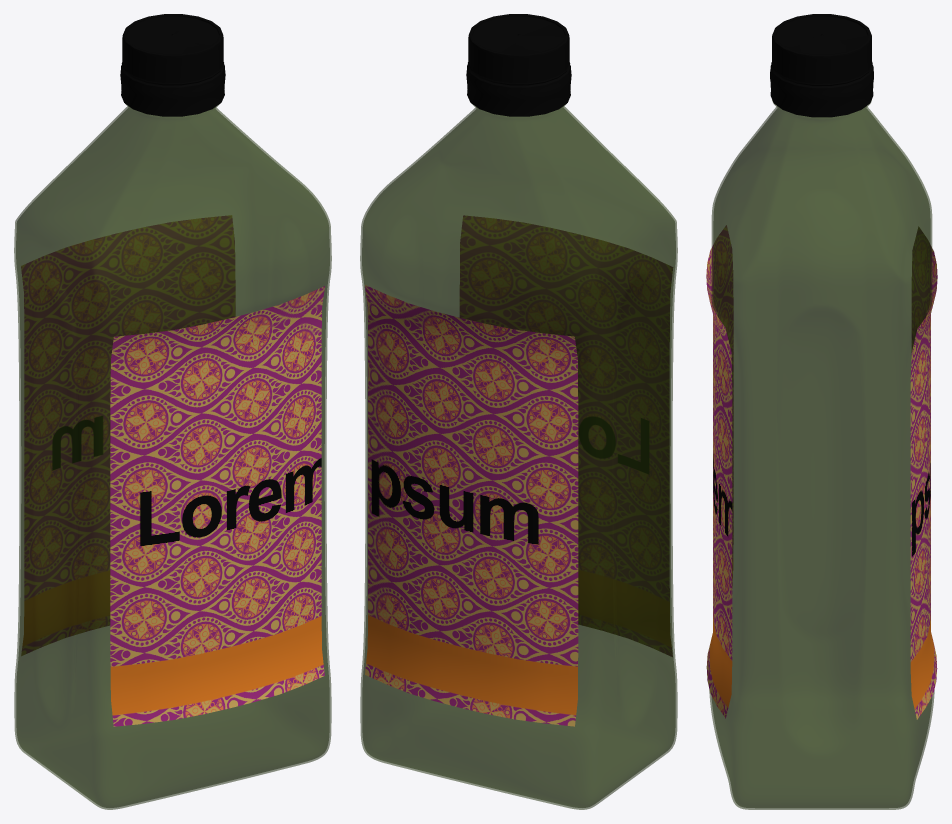
File: 01.Oil bottle.glb
3 views of the same model, side by side, from view 1: azimuth 30°, elevation 25°; view 2: azimuth 150°, elevation 25°; view 3: azimuth 270°, elevation 25° (orthographic).
Parts seen in each view (by area): view 1: Front Label, Bottle, Bottle Cap; view 2: Front Label, Bottle, Bottle Cap; view 3: Bottle, Front Label, Bottle Cap.
Part boxes in pixels (x1,y1,x2,y2): Front Label: [21, 215, 324, 726]; Bottle: [14, 104, 331, 809]; Bottle Cap: [120, 14, 225, 116]; Front Label: [365, 215, 672, 726]; Bottle: [360, 104, 677, 809]; Bottle Cap: [466, 14, 571, 116]; Bottle: [709, 100, 934, 809]; Front Label: [706, 225, 937, 719]; Bottle Cap: [770, 14, 873, 117].
Size of the model in its own units: 0.0762 by 0.2215 by 0.0641.
Materials: 3 (1 with a texture image).
